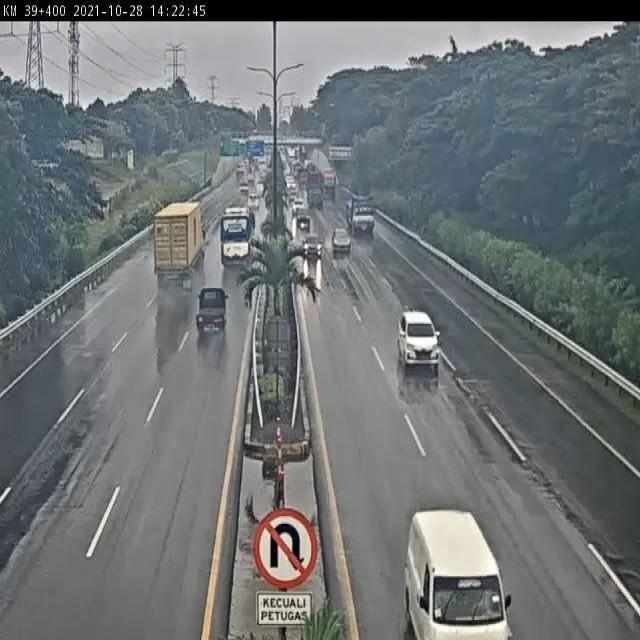bus-l-: (219, 205, 256, 267)
car: (196, 284, 232, 337)
truck-xl-: (153, 200, 208, 288)
